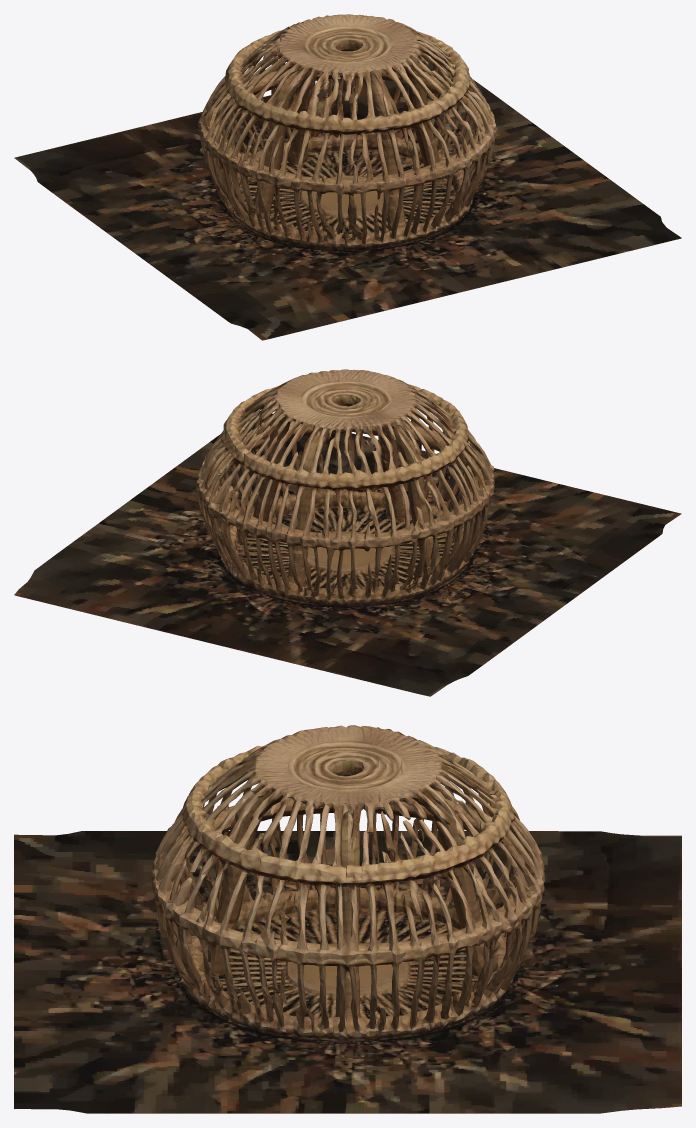
File: bb07d86e-678c-4aa8-ac37-f1fdae71a5ec.glb
The picture shows the model from 3 angles, top to bottom: view 1: azimuth 30°, elevation 25°; view 2: azimuth 150°, elevation 25°; view 3: azimuth 270°, elevation 25°; orthographic projection. The views are drawn at different scales.
Parts seen in each view (by area): view 1: world; view 2: world; view 3: world.
Part boxes in pixels (x1,y1,x2,y2): world: (14, 14, 681, 340); world: (14, 369, 681, 696); world: (14, 725, 681, 1113).
Size of the model in its own units: 1 by 0.4264 by 1.
Materials: 1 (1 with a texture image).
